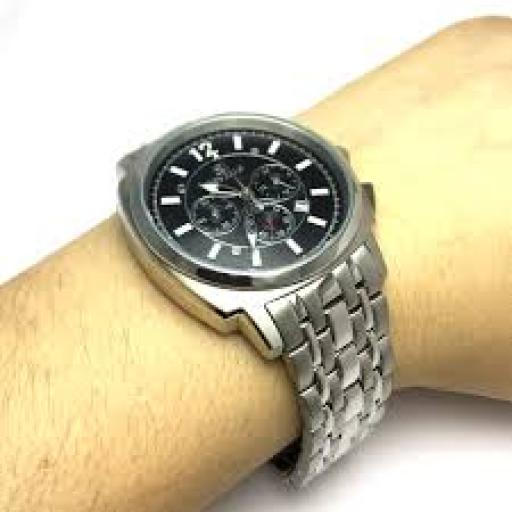KolSaati: (98, 88, 414, 499)
